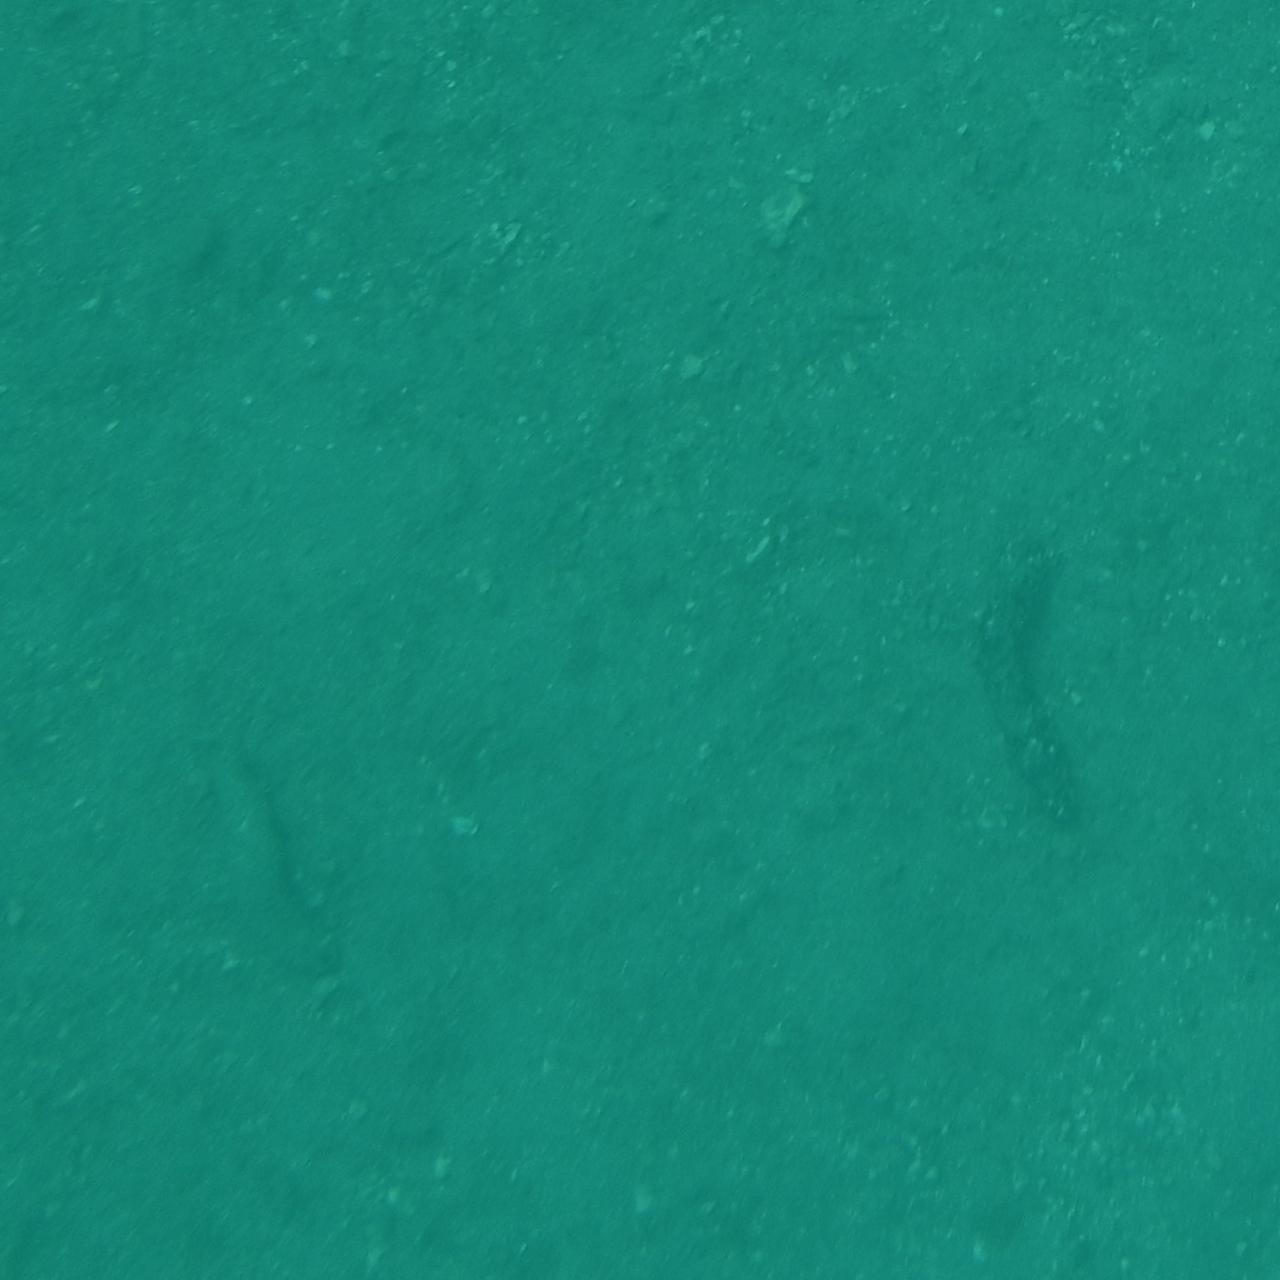Holothuria tubulosa: (980, 509, 1131, 831), (197, 730, 347, 987), (1131, 531, 1280, 722), (0, 699, 182, 837), (0, 384, 96, 641), (0, 282, 87, 561), (1152, 735, 1280, 831)
